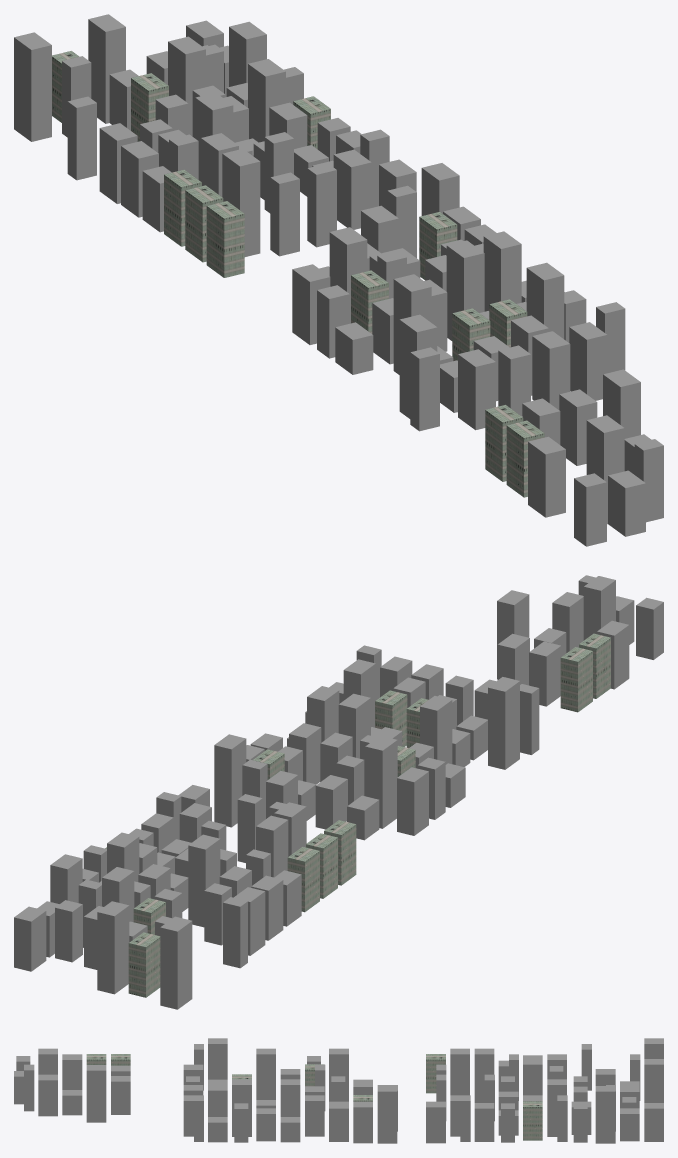
File: map4collision.obj
3 views of the same model, one above another, from view 1: azimuth 30°, elevation 25°; view 2: azimuth 150°, elevation 25°; view 3: azimuth 270°, elevation 25° (orthographic). The views are drawn at different scales.
Parts seen in each view (by area): view 1: Cube.1100_Cube.035, Cube.1120_Cube.035, Cube.1088_Cube.035, Cube.1099_Cube.036, Cube.1085_Cube.035, Cube.1042_Cube.037, Cube.1038_Cube.035, Cube.1076_Cube.036, Cube.1047_Cube.036, Cube.1081_Cube.036, Cube.1096_Cube.036, Cube.1035_Cube.032 (+58 smaller); view 2: Cube.1100_Cube.035, Cube.1088_Cube.035, Cube.1075_Cube.035, Cube.1053_Cube.035, Cube.1058_Cube.035, Cube.1025_Cube.035, Cube.1039_Cube.036, Cube.1122_Cube.037, Cube.1079_Cube.037, Cube.1119_Cube.039, Cube.1121_Cube.035, Cube.1108_Cube.039 (+52 smaller); view 3: Cube.1102_Cube.035, Cube.1080_Cube.035, Cube.1053_Cube.035, Cube.1121_Cube.035, Cube.1120_Cube.035, Cube.1088_Cube.035, Cube.1066_Cube.035, Cube.1114_Cube.036, Cube.1054_Cube.036, Cube.1026_Cube.036, Cube.1075_Cube.035, Cube.1059_Cube.036 (+58 smaller).
Boxes of the visible parts, x1,y1,x2,y2 form: Cube.1100_Cube.035: (14,32,51,141); Cube.1120_Cube.035: (222,148,260,256); Cube.1088_Cube.035: (88,14,125,123); Cube.1099_Cube.036: (528,436,565,517); Cube.1085_Cube.035: (446,240,484,340); Cube.1042_Cube.037: (206,201,244,277); Cube.1038_Cube.035: (483,231,521,311); Cube.1076_Cube.036: (458,349,495,430); Cube.1047_Cube.036: (569,322,607,400); Cube.1081_Cube.036: (532,331,570,409); Cube.1096_Cube.036: (333,149,371,229); Cube.1035_Cube.032: (67,96,96,180); Cube.1100_Cube.035: (160,916,192,1009); Cube.1088_Cube.035: (97,901,129,994); Cube.1075_Cube.035: (488,677,519,769); Cube.1053_Cube.035: (214,734,246,827); Cube.1058_Cube.035: (365,735,397,828); Cube.1025_Cube.035: (188,834,220,927); Cube.1039_Cube.036: (397,767,428,835); Cube.1122_Cube.037: (128,932,160,997); Cube.1079_Cube.037: (560,647,592,712); Cube.1119_Cube.039: (14,906,46,971); Cube.1121_Cube.035: (420,696,452,764); Cube.1108_Cube.039: (529,641,561,706); Cube.1102_Cube.035: (595,1086,615,1143); Cube.1080_Cube.035: (86,1065,106,1122); Cube.1053_Cube.035: (377,1086,397,1143); Cube.1121_Cube.035: (256,1048,275,1099); Cube.1120_Cube.035: (450,1048,469,1095); Cube.1088_Cube.035: (644,1059,663,1102); Cube.1066_Cube.035: (474,1048,494,1102); Cube.1114_Cube.036: (353,1101,372,1143); Cube.1054_Cube.036: (426,1101,445,1143); Cube.1026_Cube.036: (38,1074,57,1116); Cube.1075_Cube.035: (208,1038,227,1079); Cube.1059_Cube.036: (305,1095,324,1136).
Bounding box in the file's own units: 2.86 × 1.22 × 13.8.
Materials: 2 (1 with a texture image).
